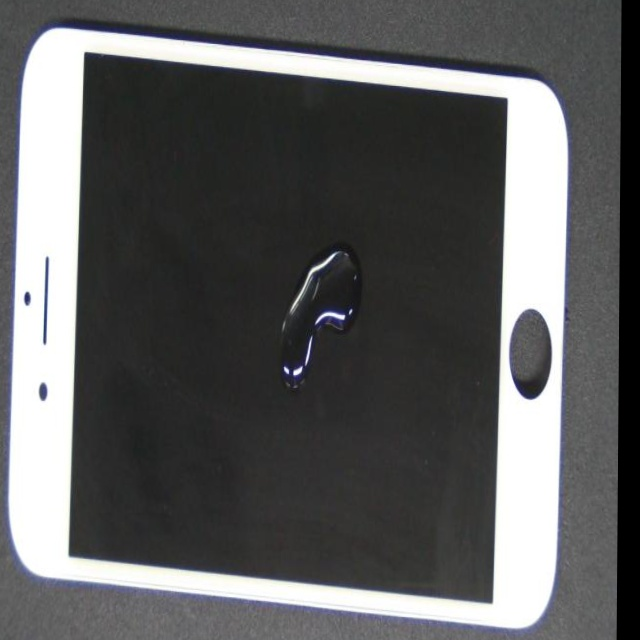oil: (147, 155, 524, 481)
